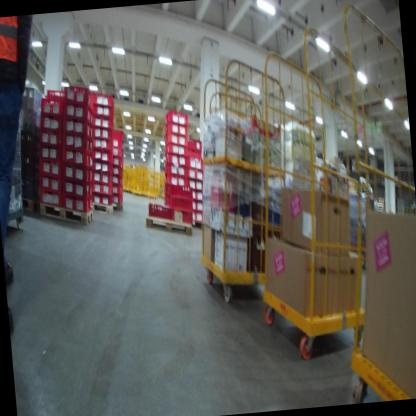pallet: (41, 193, 97, 233), (145, 211, 196, 239), (14, 187, 42, 216), (86, 191, 115, 217), (191, 214, 212, 234), (112, 201, 127, 215)
